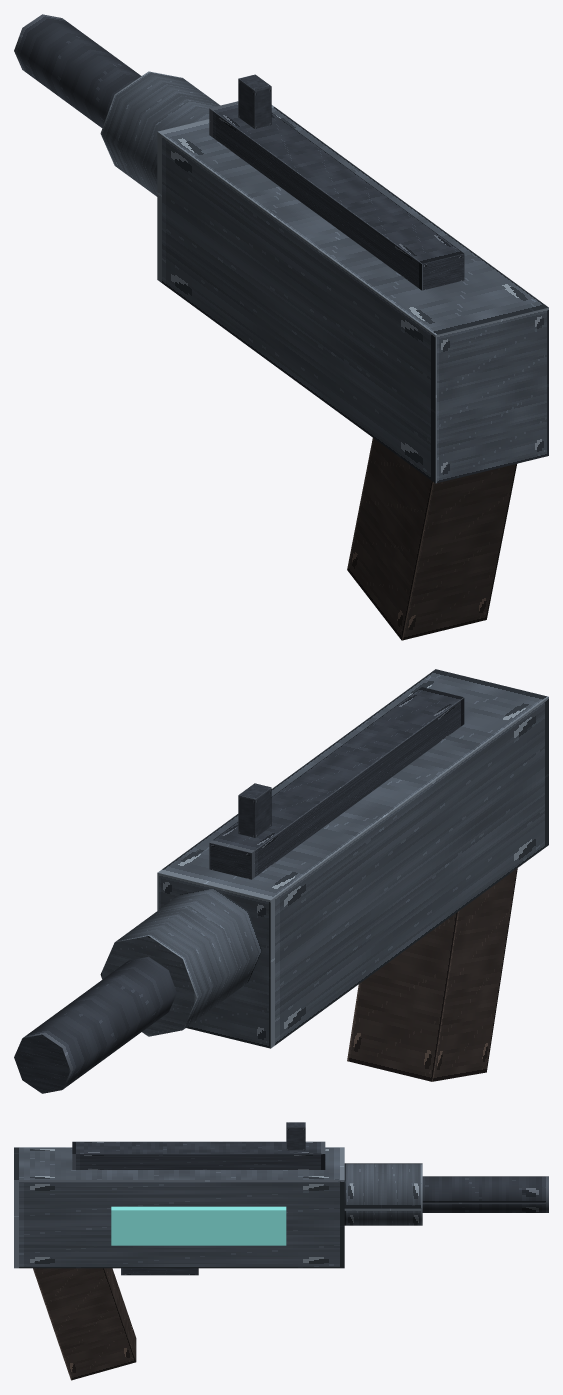
File: lancet.gltf
3 renders of one model, top to bottom at view 1: azimuth 30°, elevation 25°; view 2: azimuth 150°, elevation 25°; view 3: azimuth 270°, elevation 25°, orthographic. The views are drawn at different scales.
Parts seen in each view (by area): view 1: lancet; view 2: lancet; view 3: lancet, lancet_cell.
Boxes of the visible parts, x1=… form: lancet: x1=14, y1=14, x2=548, y2=640; lancet: x1=14, y1=669, x2=548, y2=1093; lancet: x1=14, y1=1122, x2=548, y2=1380; lancet_cell: x1=111, y1=1206, x2=286, y2=1245.
Size of the model in its own units: 0.089 by 0.276 by 0.55.
2 materials, 1 textured.
